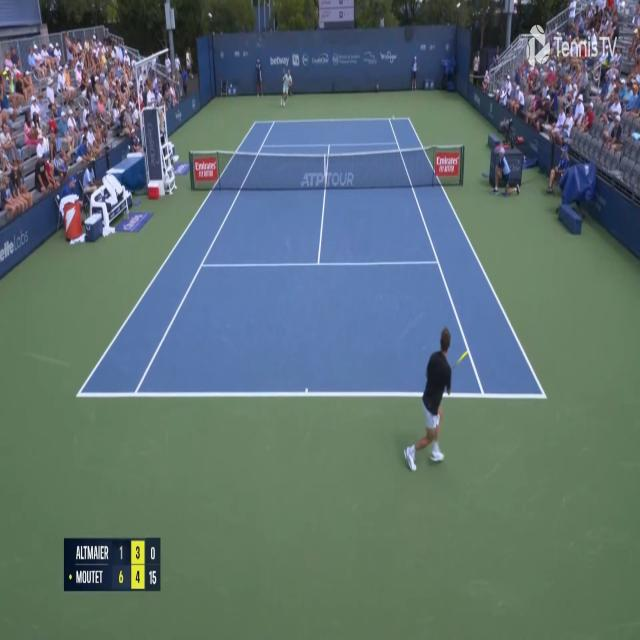tennis-player: (401, 319, 458, 473), (280, 67, 293, 108)
